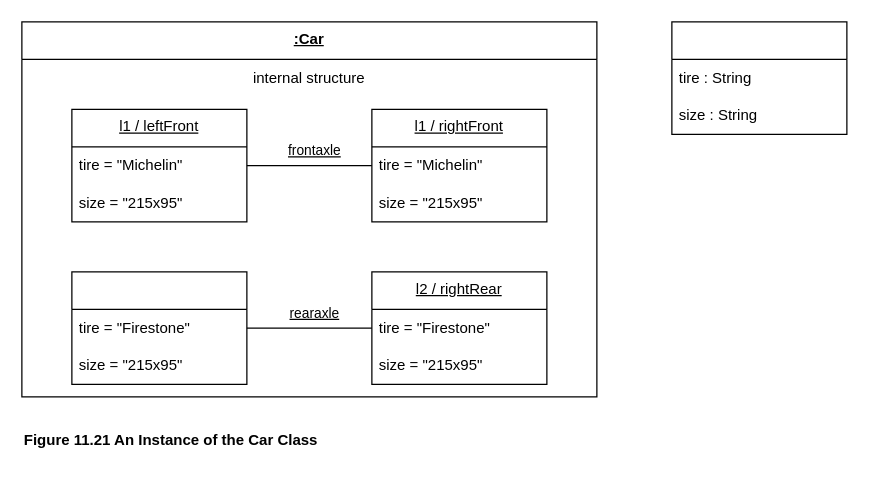
Some shapes in this 869 by 481 pixel diagram are drawn without their labels. The shapes that lost their labels are listed below. From the top down, each one's box as (x1, y1, x2, y2) in pixels, then its label:
(671, 21, 847, 134): Wheel
(71, 271, 247, 384): l2 / leftRear
